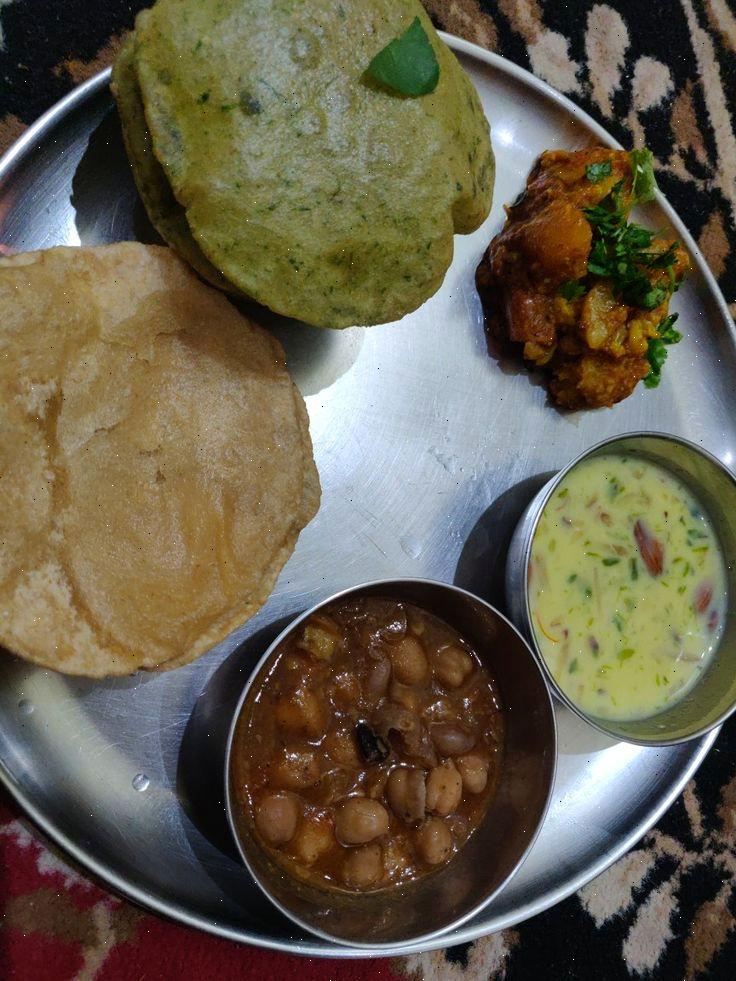chole: (240, 626, 530, 889)
puri: (0, 279, 262, 608)
